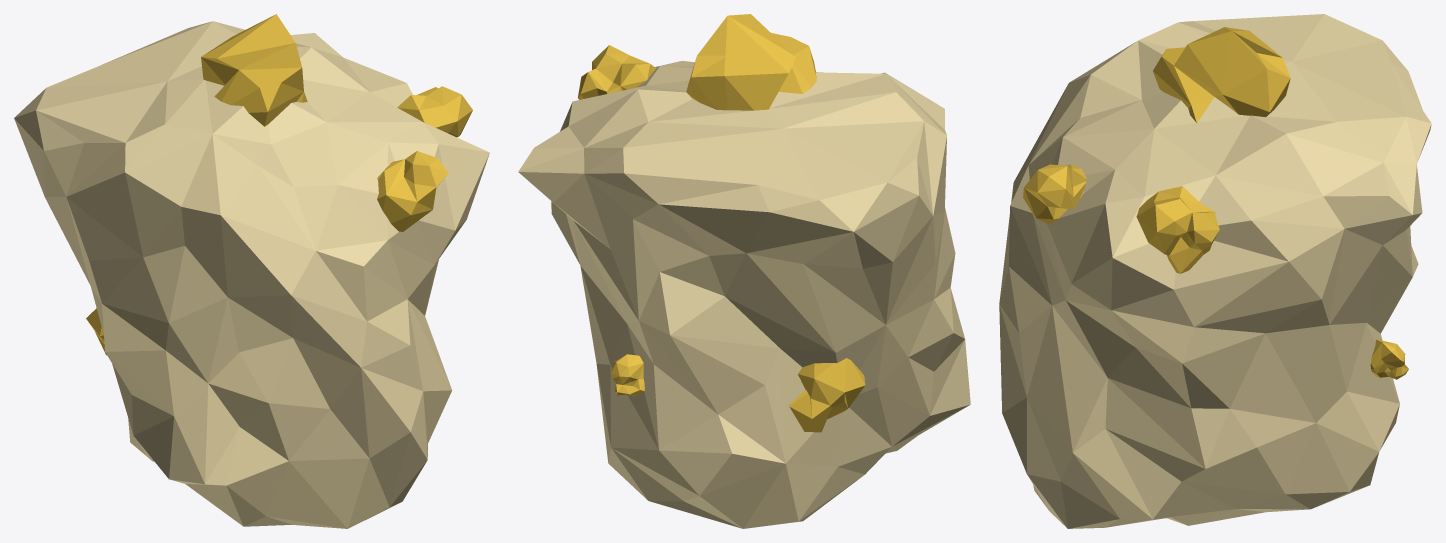
Rendered from MetalOre (12).fbx.
3 views of the same model, side by side, from view 1: azimuth 30°, elevation 25°; view 2: azimuth 150°, elevation 25°; view 3: azimuth 270°, elevation 25° (orthographic). The views are drawn at different scales.
Parts seen in each view (by area): view 1: Asteroid367; view 2: Asteroid367; view 3: Asteroid367.
Boxes of the visible parts, x1,y1,x2,y2 form: Asteroid367: (14,14,489,528); Asteroid367: (518,14,970,528); Asteroid367: (999,14,1431,528).
Size of the model in its own units: 504 by 593 by 479.
